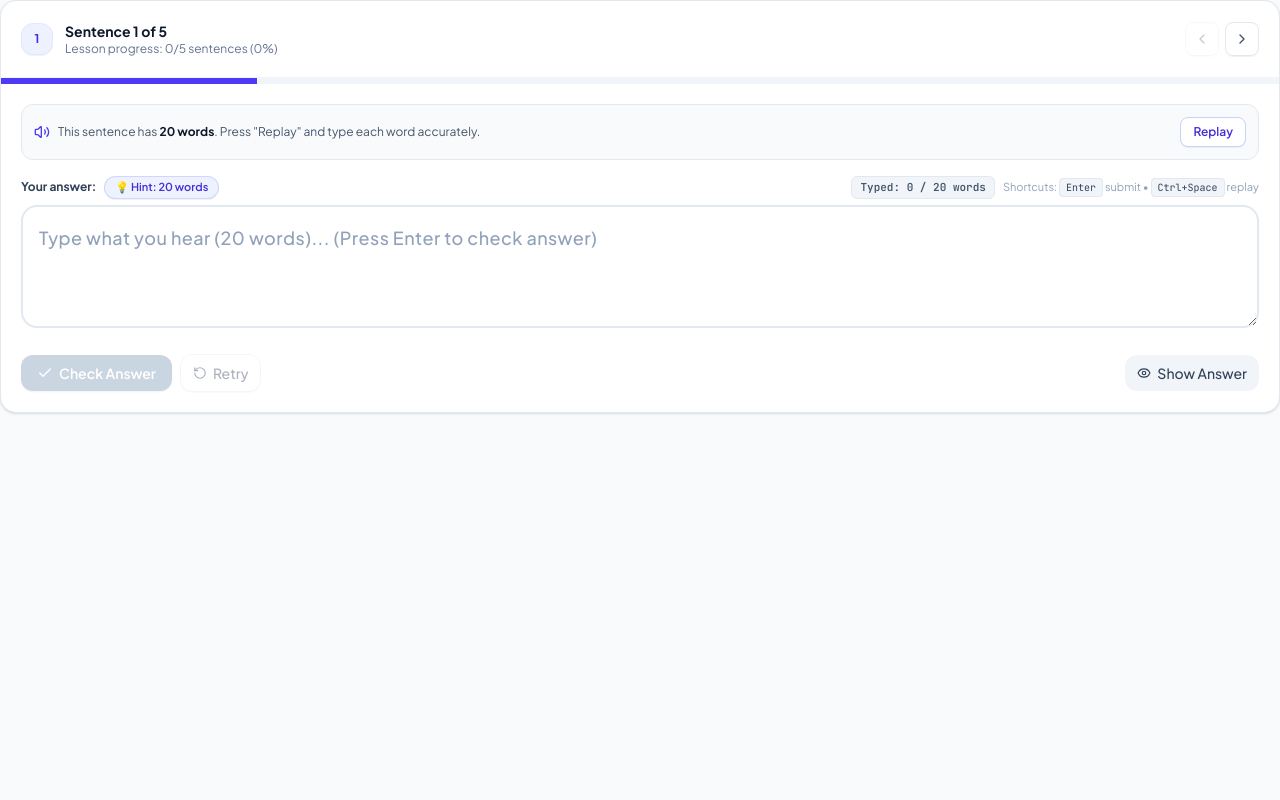
it: ListenFlow Improvement Requirements › 2. Word-level answer alignment highlighting (correct, missing, incorrect, extra) › renders alignment breakdown with correct, missing, incorrect, extra words and visual legend
Replace the text in the text box with placeholder "Type what you hear" with "I am pleased to be with you today at your commencement extraWord" at (640, 266), box [21,204,1259,328]
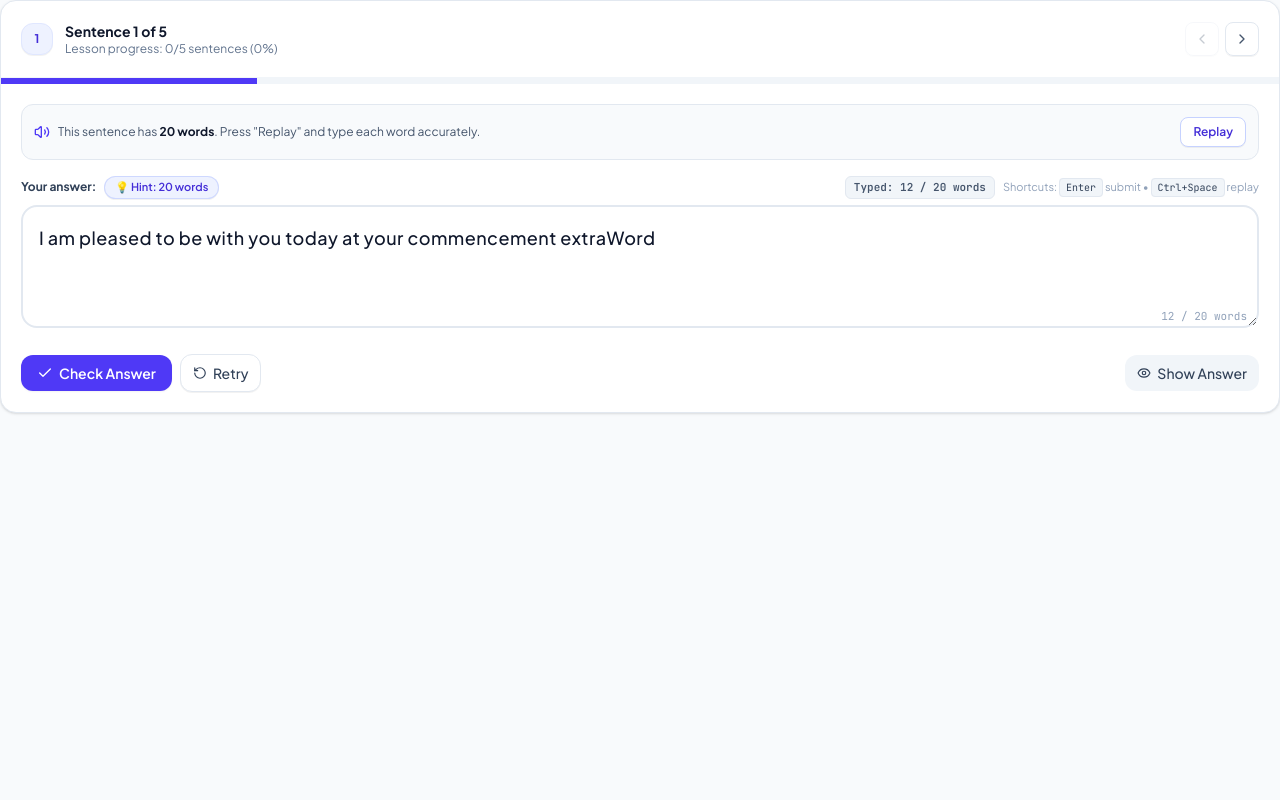
Click the button "Check Answer" at (96, 373), box [21,355,172,391]
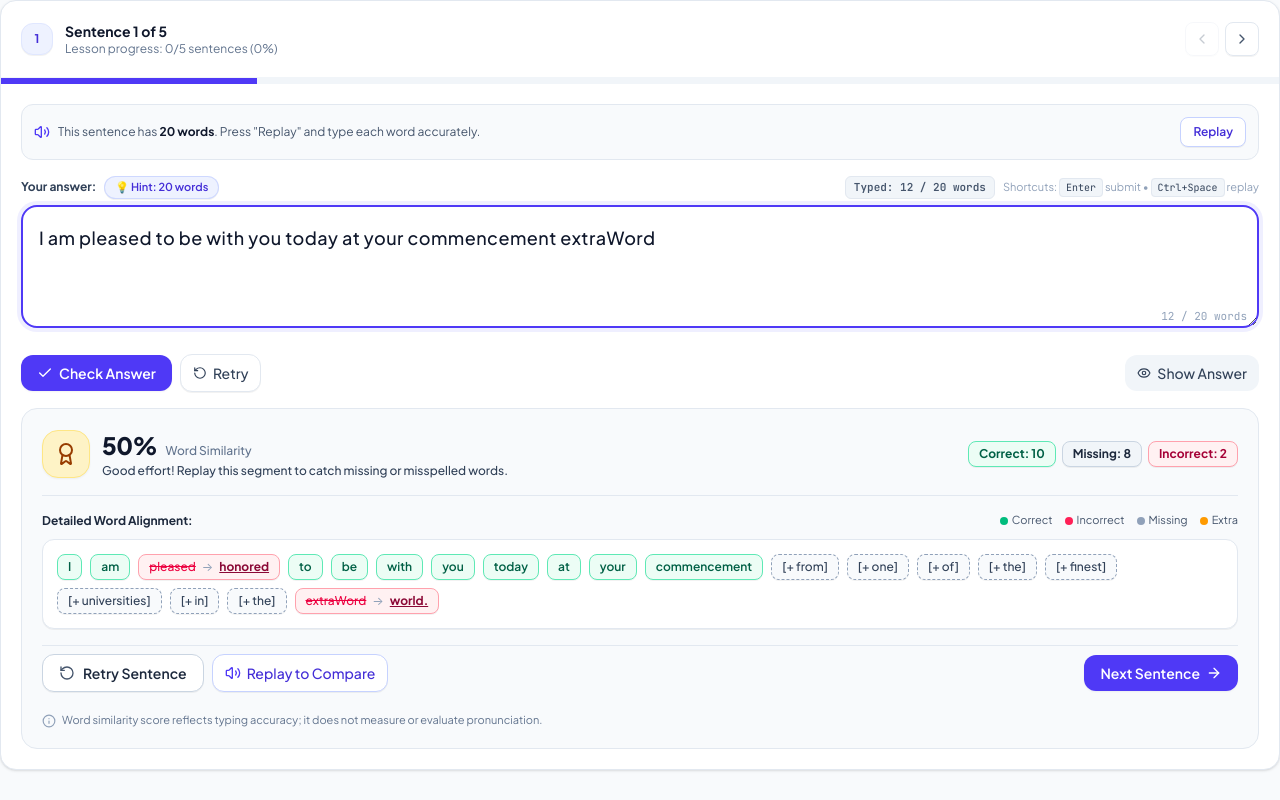
Now the element named "Word alignment comparison results" is shown, box [42,539,1238,629]
Now the text "Correct" is shown, box [1000,512,1053,529]
Now the text "Incorrect" is shown, box [1065,512,1125,529]
